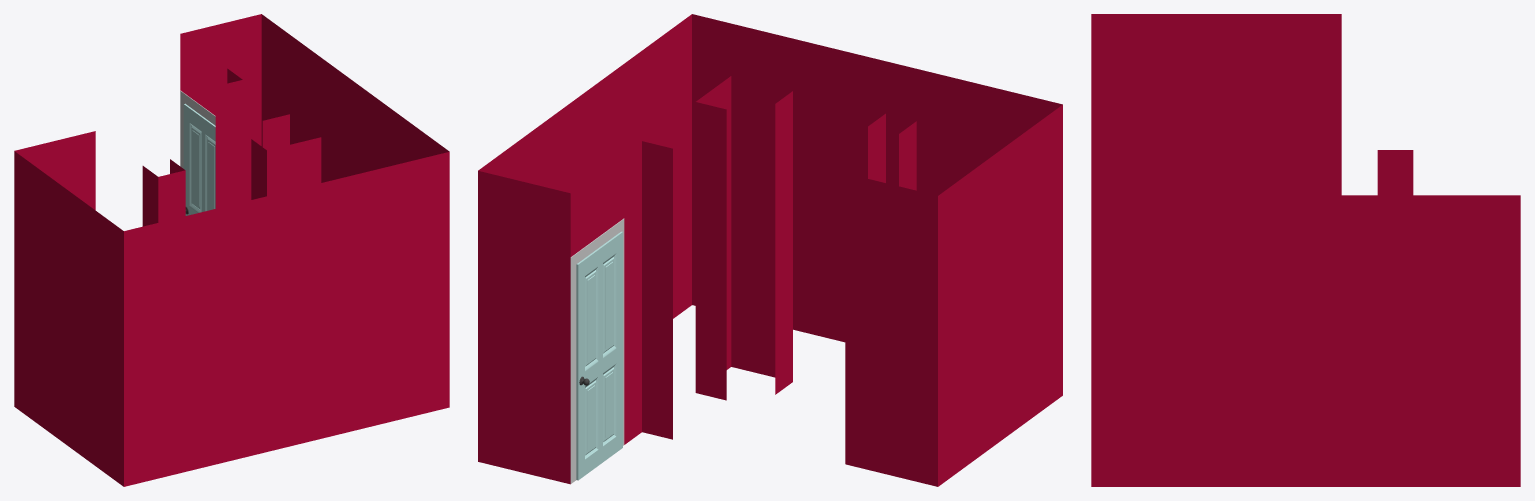
File: main hall.fbx
The picture shows the model from 3 angles, left to right: view 1: azimuth 30°, elevation 25°; view 2: azimuth 150°, elevation 25°; view 3: azimuth 270°, elevation 25°; orthographic projection. The views are drawn at different scales.
Parts seen in each view (by area): view 1: pPlane2, pPlane4, pPlane1, pPlane28, pPlane38, pPlane27, door, pPlane9, pPlane8, pPlane5, pPlane7, pPlane39 (+2 smaller); view 2: pPlane2, pPlane4, pPlane27, pPlane28, pPlane1, pPlane9, door, pPlane39, pPlane38, pPlane3, pPlane7, door_trim (+4 smaller); view 3: pPlane1, pPlane4, pPlane37, pPlane6, pPlane3, pPlane7, pPlane5.
Part boxes in pixels (<box>): pPlane2: <box>124,152,449,486</box>; pPlane4: <box>14,151,123,486</box>; pPlane1: <box>261,14,449,182</box>; pPlane28: <box>180,14,261,201</box>; pPlane38: <box>215,80,242,208</box>; pPlane27: <box>14,131,95,210</box>; door: <box>183,103,215,215</box>; pPlane9: <box>267,137,321,196</box>; pPlane8: <box>158,170,185,222</box>; pPlane5: <box>142,166,158,226</box>; pPlane7: <box>251,139,266,199</box>; pPlane39: <box>262,114,289,150</box>; pPlane2: <box>692,14,1062,342</box>; pPlane4: <box>938,105,1062,486</box>; pPlane27: <box>845,173,937,486</box>; pPlane28: <box>478,171,570,484</box>; pPlane1: <box>478,14,691,318</box>; pPlane9: <box>731,76,792,377</box>; door: <box>576,231,622,480</box>; pPlane39: <box>695,102,726,400</box>; pPlane38: <box>642,141,672,439</box>; pPlane3: <box>624,141,641,444</box>; pPlane7: <box>775,91,792,394</box>; door_trim: <box>570,218,624,483</box>; pPlane1: <box>1091,195,1520,486</box>; pPlane4: <box>1091,14,1341,195</box>; pPlane37: <box>1198,150,1270,195</box>; pPlane6: <box>1198,74,1234,119</box>; pPlane3: <box>1377,150,1413,195</box>; pPlane7: <box>1198,119,1234,149</box>; pPlane5: <box>1198,59,1234,74</box>.
Bounding box in the file's own units: 3.66 × 2.74 × 3.66.
